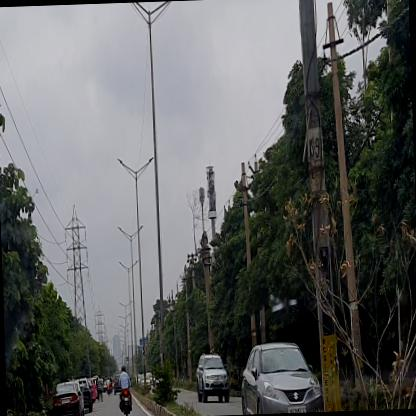car: (240, 341, 324, 414), (195, 354, 230, 404), (52, 380, 83, 415), (76, 378, 94, 415), (114, 374, 122, 396)
motorcycle: (118, 365, 135, 415), (106, 376, 112, 396)
